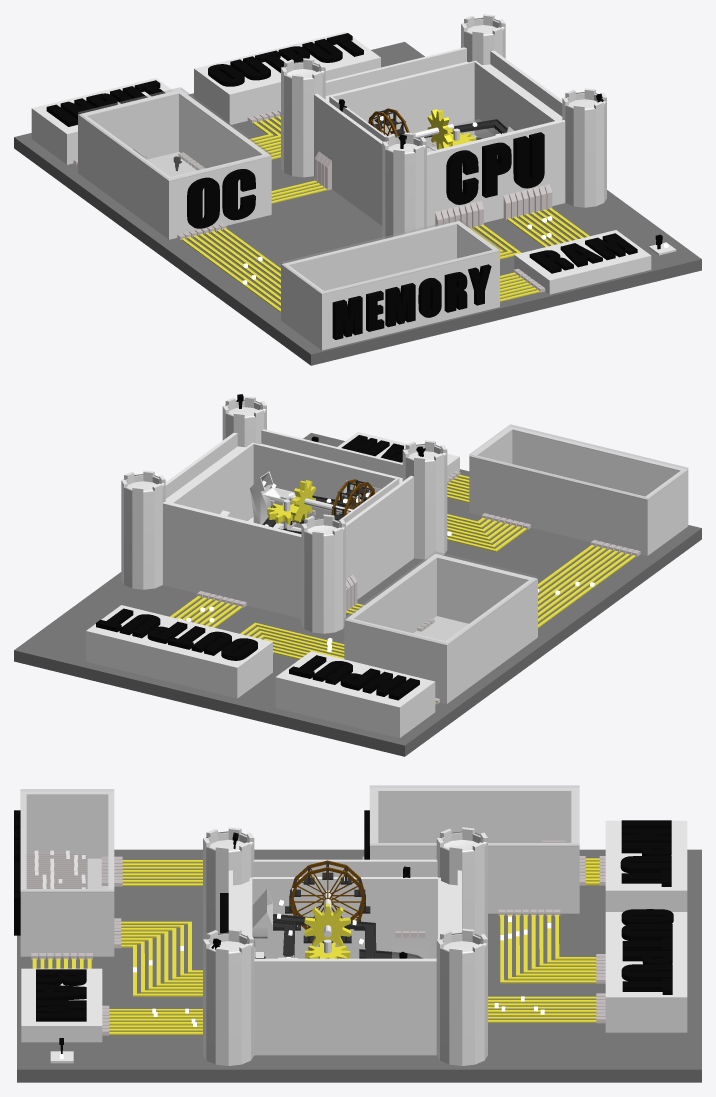
File: asset.gltf
3 renders of one model, top to bottom at view 1: azimuth 30°, elevation 25°; view 2: azimuth 150°, elevation 25°; view 3: azimuth 270°, elevation 25°, orthographic. The views are drawn at different scales.
Parts seen in each view (by area): view 1: buildings, group4_pasted__pCube4, names, pCube29, pasted__pCube29, wires, imputs, pasted__connectors1, pGear2, pasted__pasted__group14_pasted__pasted__group7_pasted__paste; view 2: buildings, group4_pasted__pCube4, pCube29, wires, pasted__pCube29, names, operators, pasted__connectors1, pGear2; view 3: buildings, group4_pasted__pCube4, wires, pCube29, names, pasted__pCube29, pasted__connectors1, memory, group32, roads, pGear2, operators (+4 smaller).
Boxes of the visible parts, <box> form: buildings: <box>31,14,651,350</box>; group4_pasted__pCube4: <box>14,42,701,365</box>; names: <box>46,33,637,339</box>; pCube29: <box>78,87,271,180</box>; pasted__pCube29: <box>281,219,499,294</box>; wires: <box>181,116,589,312</box>; imputs: <box>435,184,552,227</box>; pasted__connectors1: <box>73,109,545,301</box>; pGear2: <box>427,109,452,149</box>; pasted__pasted__group14_pasted__pasted__group7_pasted__paste: <box>314,151,331,190</box>; buildings: <box>86,396,688,737</box>; group4_pasted__pCube4: <box>14,433,701,756</box>; pCube29: <box>344,551,537,645</box>; wires: <box>170,474,635,659</box>; pasted__pCube29: <box>469,424,687,499</box>; names: <box>96,435,419,700</box>; operators: <box>249,471,381,524</box>; pasted__connectors1: <box>197,471,640,704</box>; pGear2: <box>290,480,315,521</box>; buildings: <box>20,788,687,1065</box>; group4_pasted__pCube4: <box>17,849,701,1082</box>; wires: <box>32,860,596,1034</box>; pCube29: <box>370,785,579,845</box>; names: <box>14,810,673,1021</box>; pasted__pCube29: <box>20,789,113,891</box>; pasted__connectors1: <box>31,856,605,1035</box>; memory: <box>26,853,87,888</box>; group32: <box>289,860,365,929</box>; roads: <box>255,914,422,958</box>; pGear2: <box>304,903,350,946</box>; operators: <box>252,889,297,958</box>.
Bounding box in the file's own units: 2.8 × 0.7989 × 3.7.
